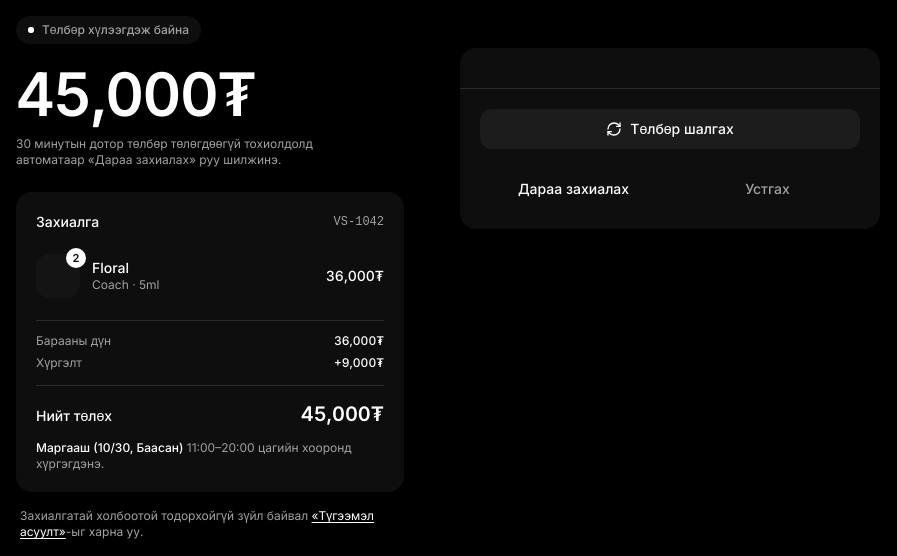
it: pending payment › reports back when a manual check finds no payment
This screenshot has width=897, height=556.
Click the button "Төлбөр шалгах".
click(670, 129)  # box [480,109,860,149]
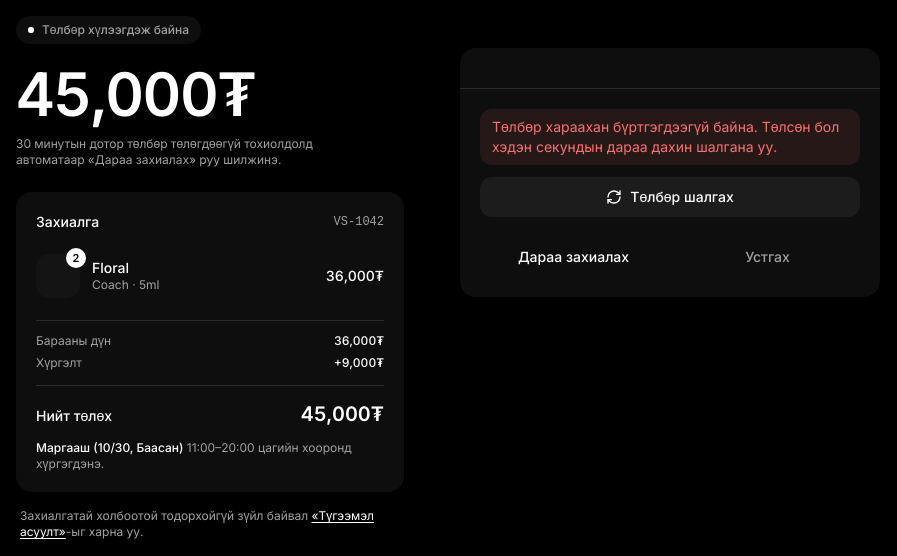
Expected: the text "хараахан бүртгэгдээгүй байна" is shown, [492,118,839,155]
